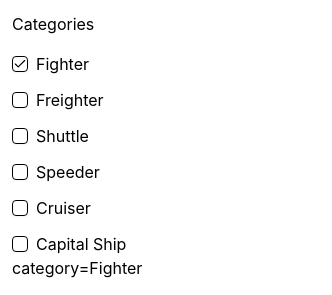
Scenario: FilterSidebar › clicking an already-selected category removes it
Click the 1st checkbox named "Fighter". click: (20, 64)
box: [12,56,28,72]
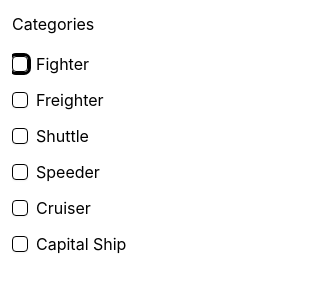
Result: the text with test id "probe" no longer shows "category=Fighter"
